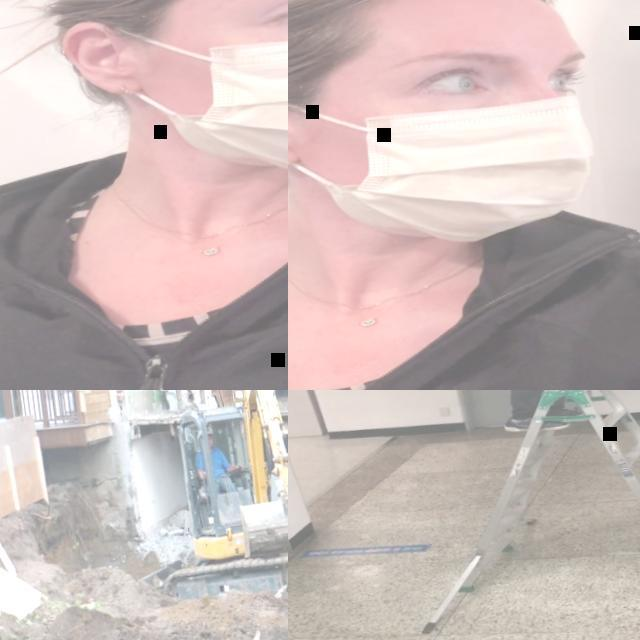machinery: (107, 390, 288, 616)
mask: (288, 51, 609, 264), (112, 0, 288, 190)
no_helmet: (288, 0, 564, 72), (202, 424, 214, 435)
no_mask: (208, 442, 213, 449)
no_vest: (0, 134, 288, 390), (288, 201, 640, 390), (198, 446, 225, 477)
person: (288, 0, 640, 390), (0, 0, 288, 390), (192, 422, 250, 514)
